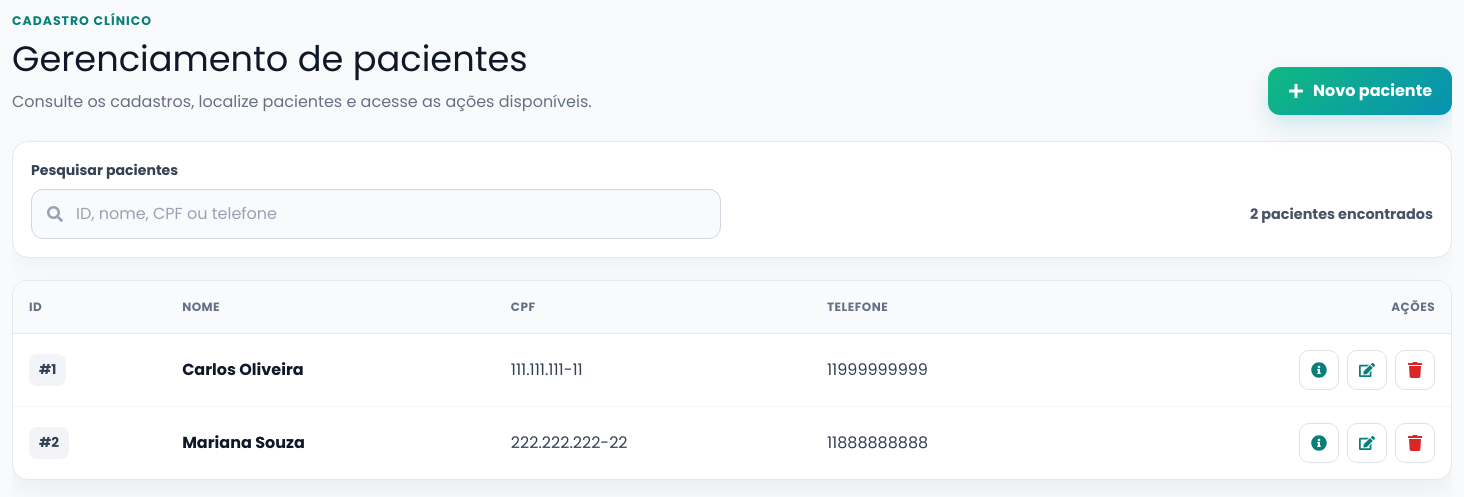
Test: Patient workspace › shows a distinct no-results state for unmatched search
Type "inexistente" into the search field labelled "Pesquisar pacientes" at (376, 214), box [31,189,721,239]
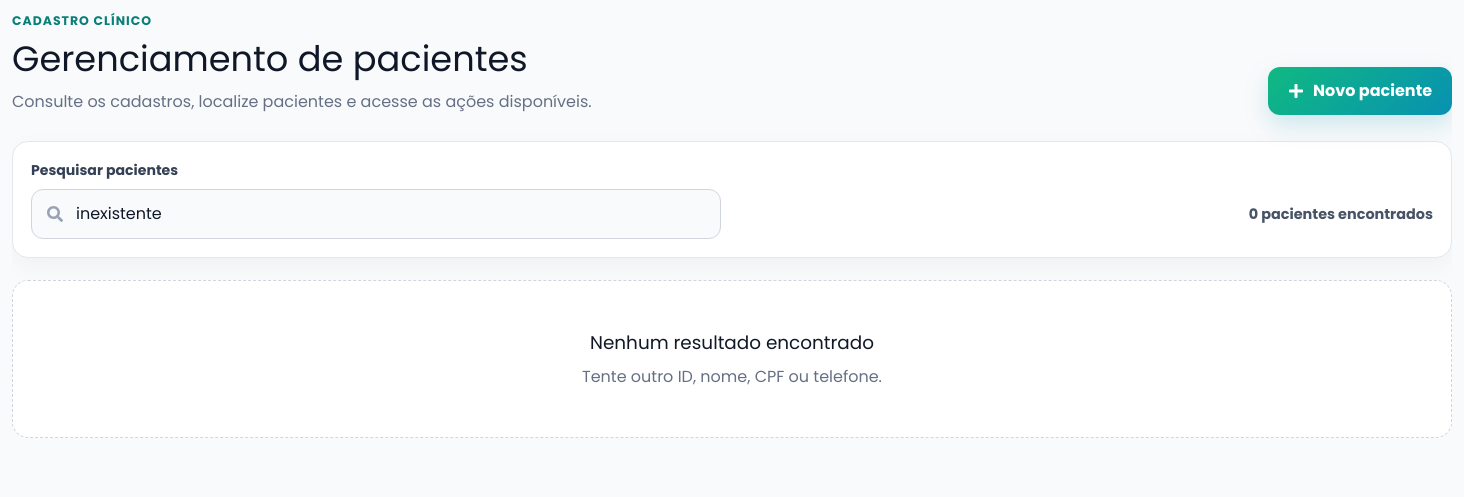
Check: the heading "Nenhum resultado encontrado" is shown, box [590,330,874,355]
Check: the text "0 pacientes encontrados" is shown, box [1249,204,1433,226]
